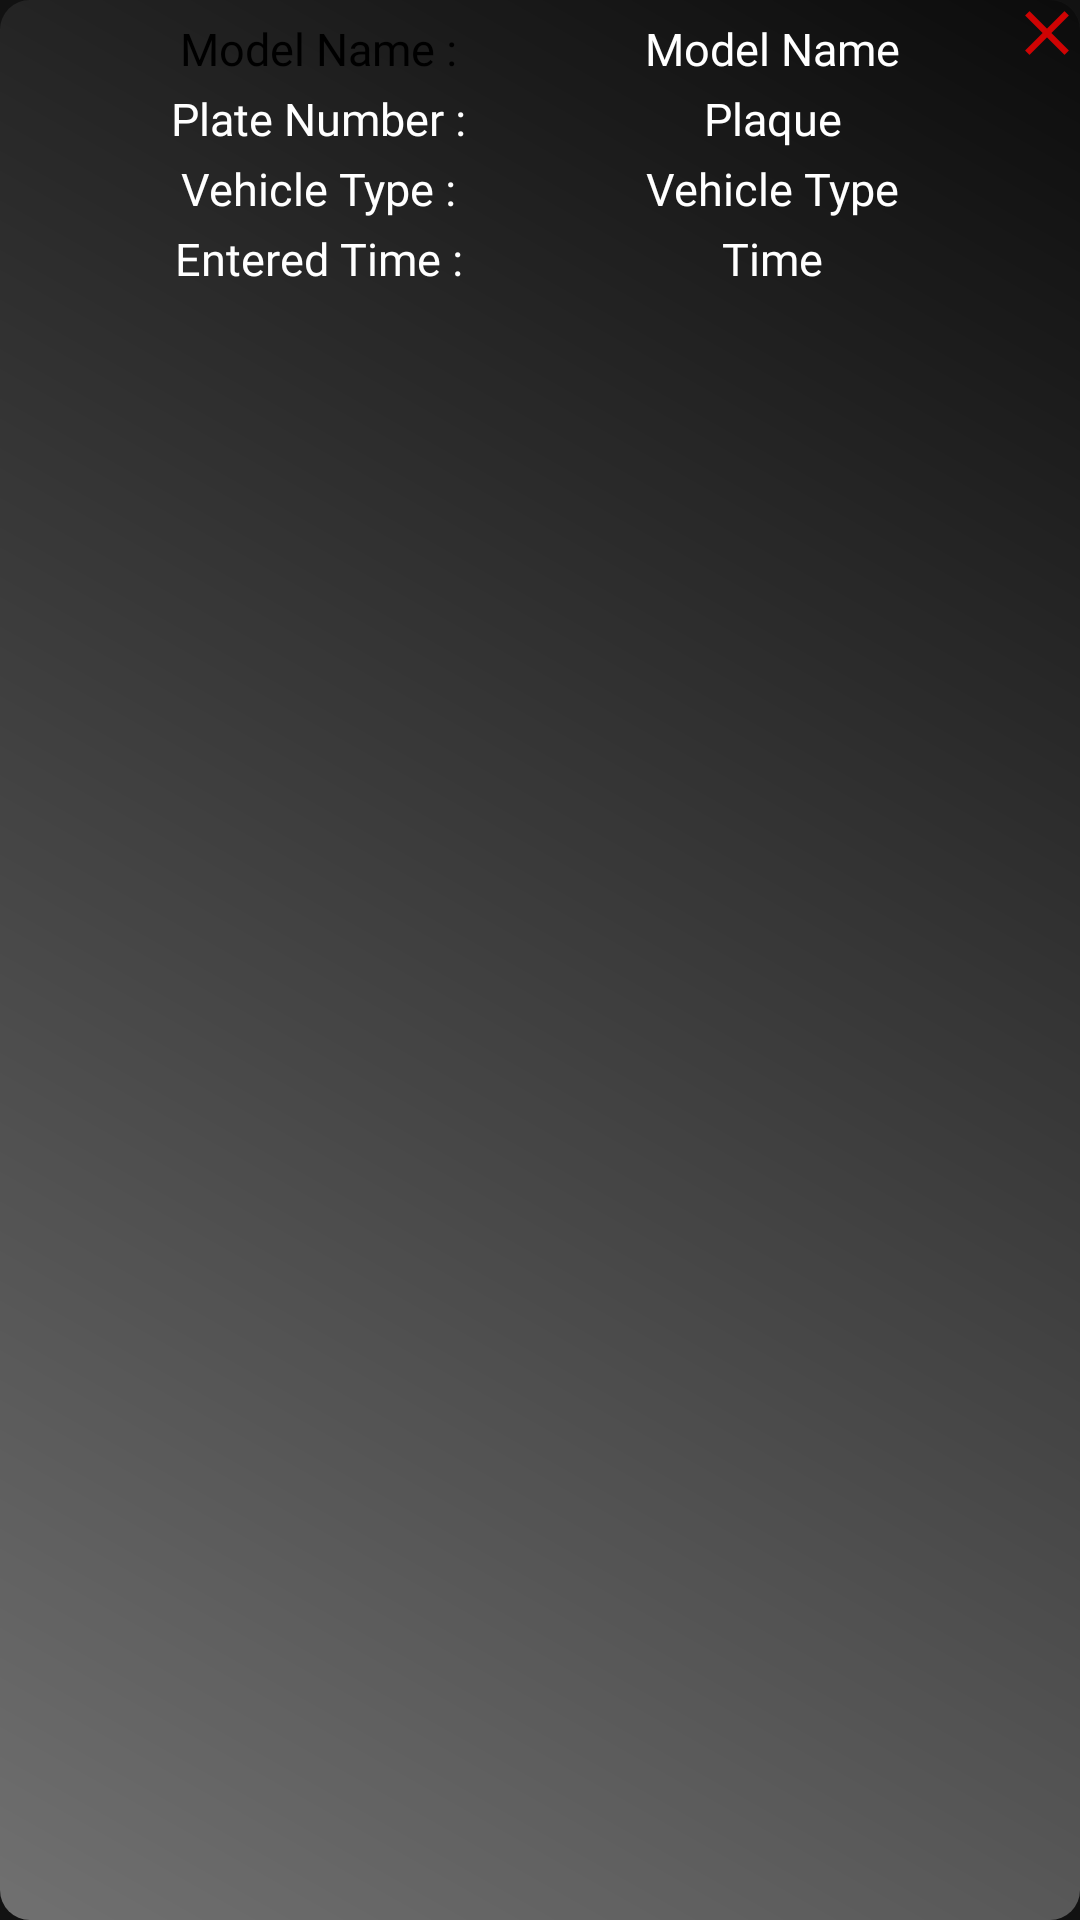

Point at icon controls on the screen. Image size 1080 × 1920, points as point (x, y).
close: point (1047, 33)
